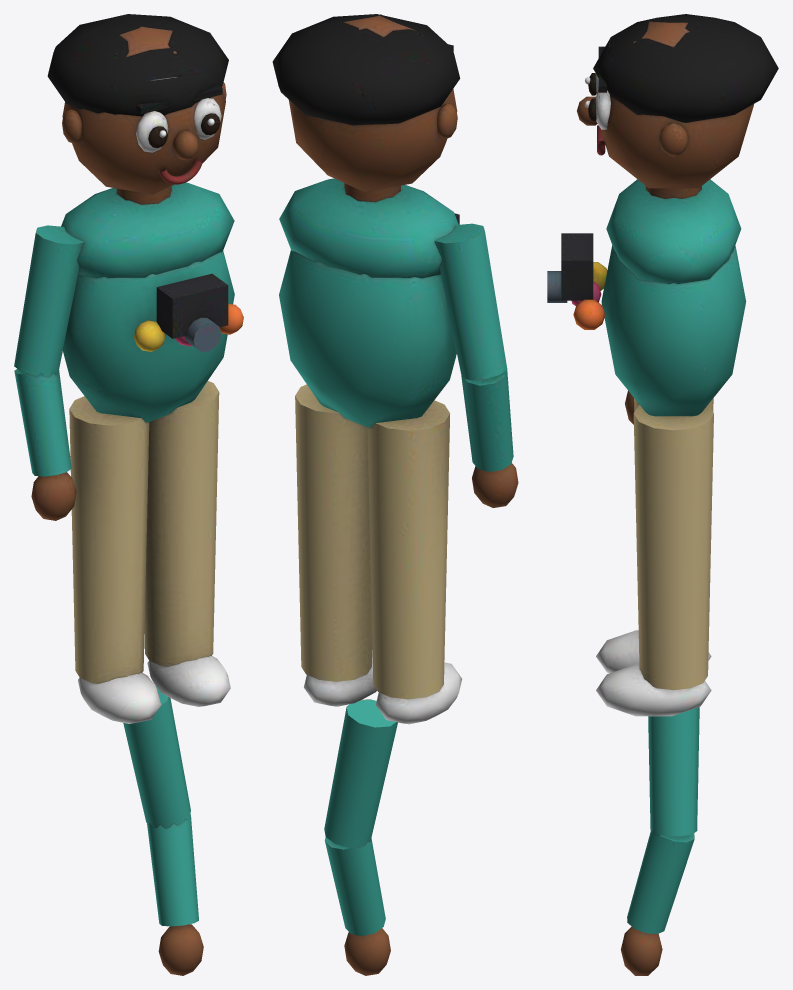
File: turista.glb
The picture shows the model from 3 angles, left to right: view 1: azimuth 30°, elevation 25°; view 2: azimuth 150°, elevation 25°; view 3: azimuth 270°, elevation 25°; orthographic projection. The views are drawn at different scales.
Visible parts, largest first — view 1: turista_cuerpo, turista_brazo; view 2: turista_cuerpo, turista_brazo; view 3: turista_cuerpo, turista_brazo.
Part boxes in pixels (x1=…): turista_cuerpo: x1=14, y1=14, x2=243, y2=723; turista_brazo: x1=123, y1=686, x2=203, y2=975; turista_cuerpo: x1=272, y1=14, x2=518, y2=724; turista_brazo: x1=324, y1=699, x2=397, y2=975; turista_cuerpo: x1=547, y1=14, x2=778, y2=716; turista_brazo: x1=621, y1=707, x2=699, y2=975.
Size of the model in its own units: 0.5922 by 2.57 by 0.5727.
2 materials, 2 textured.
